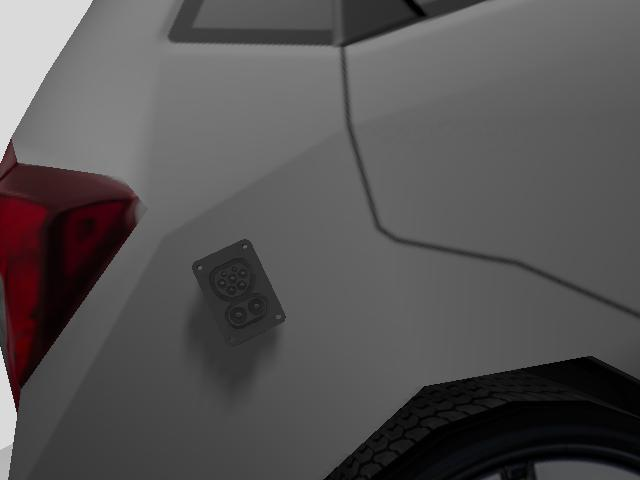EV-socket: (192, 236, 289, 352)
